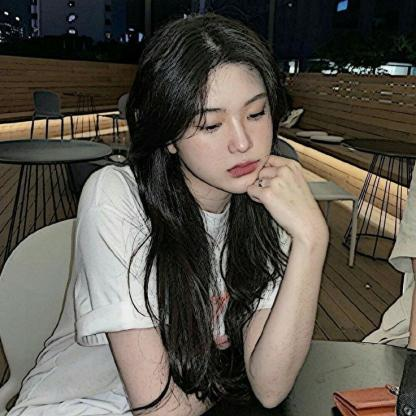person: (146, 19, 292, 204)
